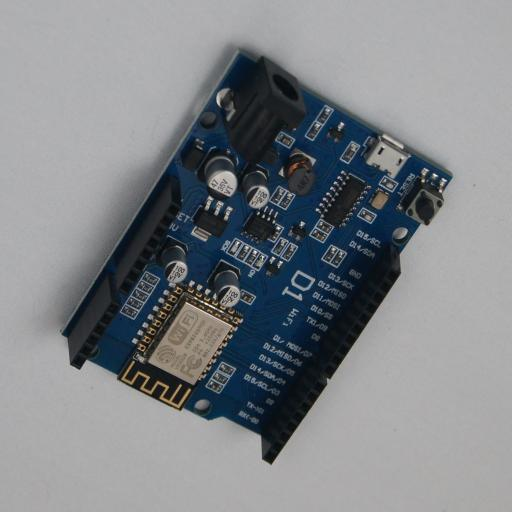Arduino Uno WiFi Shield: (60, 48, 452, 465)
